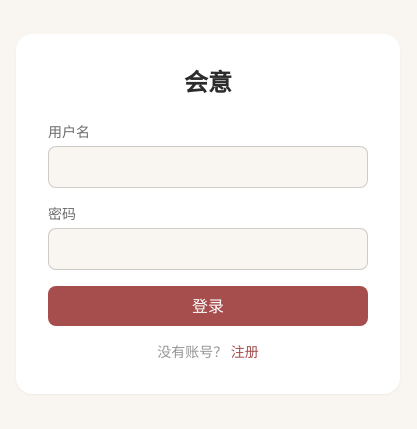
Test case: LoginPage › shows error message on API failure
Type "alice" into the field labelled "用户名" at (208, 167), box [48,146,368,188]
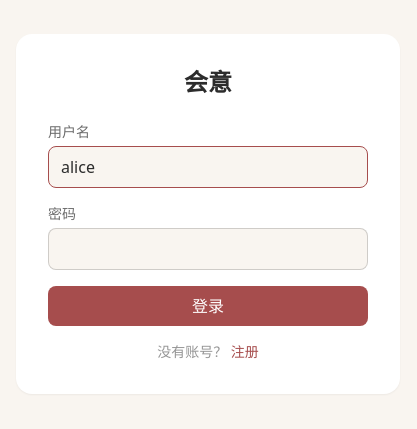
Type "wrong" into the password field labelled "密码" at (208, 249), box [48,228,368,270]
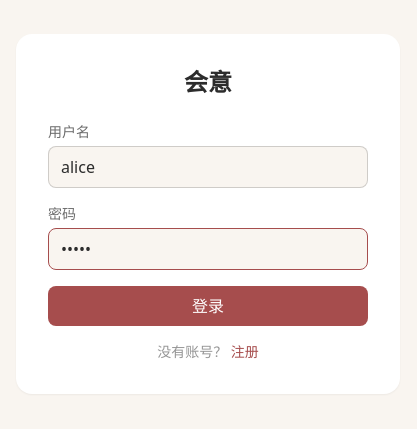
Click the button "登录" at (208, 306), box [48,286,368,326]
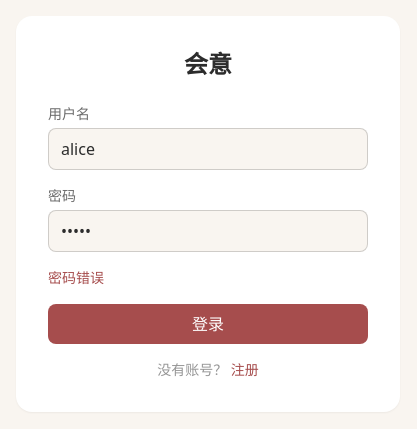
Check: the text "密码错误" is shown, box [48,268,104,287]
